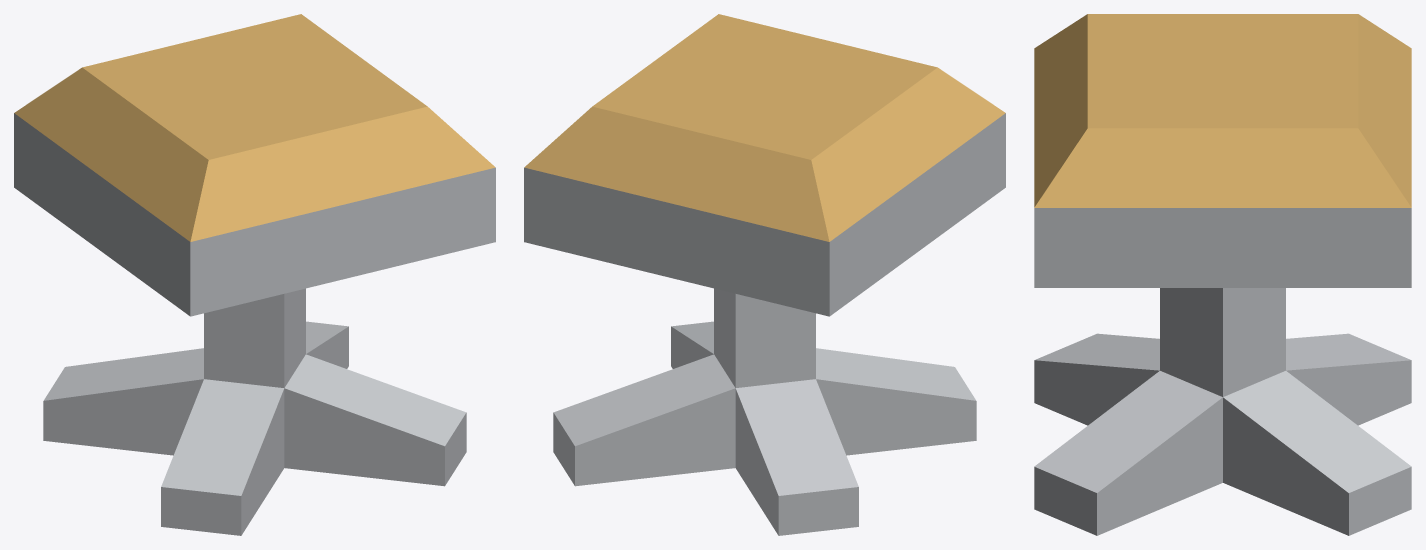
The model's file is desk_chairStool.glb.
3 views of the same model, side by side, from view 1: azimuth 30°, elevation 25°; view 2: azimuth 150°, elevation 25°; view 3: azimuth 270°, elevation 25° (orthographic). The views are drawn at different scales.
Visible parts, largest first — view 1: desk_chairStool; view 2: desk_chairStool; view 3: desk_chairStool.
Boxes of the visible parts, x1,y1,x2,y2 form: desk_chairStool: (14, 14, 495, 535); desk_chairStool: (524, 14, 1005, 535); desk_chairStool: (1034, 14, 1411, 535).
Bounding box in the file's own units: 0.15 × 0.1687 × 0.15.
